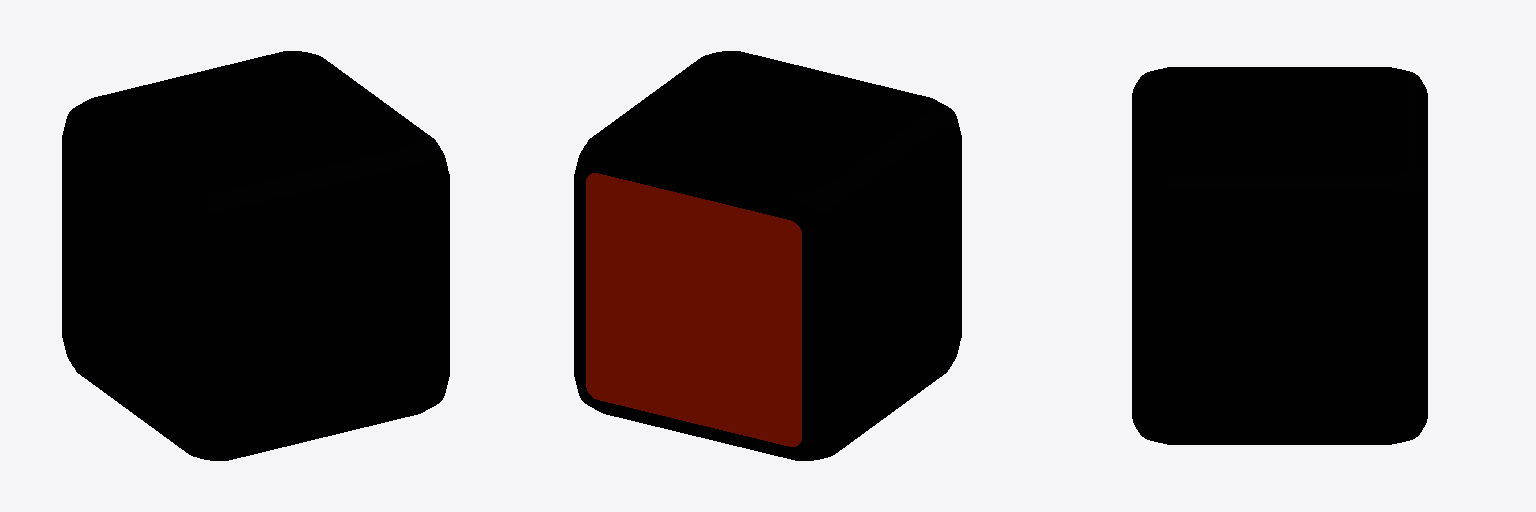
File: edge_oy.obj
3 renders of one model, left to right at view 1: azimuth 30°, elevation 25°; view 2: azimuth 150°, elevation 25°; view 3: azimuth 270°, elevation 25°, orthographic.
Parts seen in each view (by area): view 1: Cube; view 2: Cube; view 3: Cube.
Part boxes in pixels (bbox=[...]): Cube: bbox=[62, 51, 449, 460]; Cube: bbox=[574, 51, 961, 460]; Cube: bbox=[1132, 67, 1427, 444].
Bounding box in the file's own units: 2 × 2 × 2.